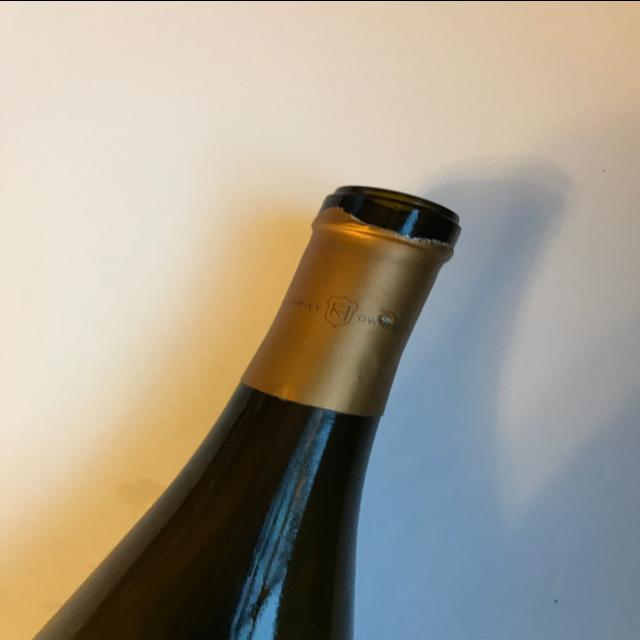glass: (27, 184, 470, 640)
